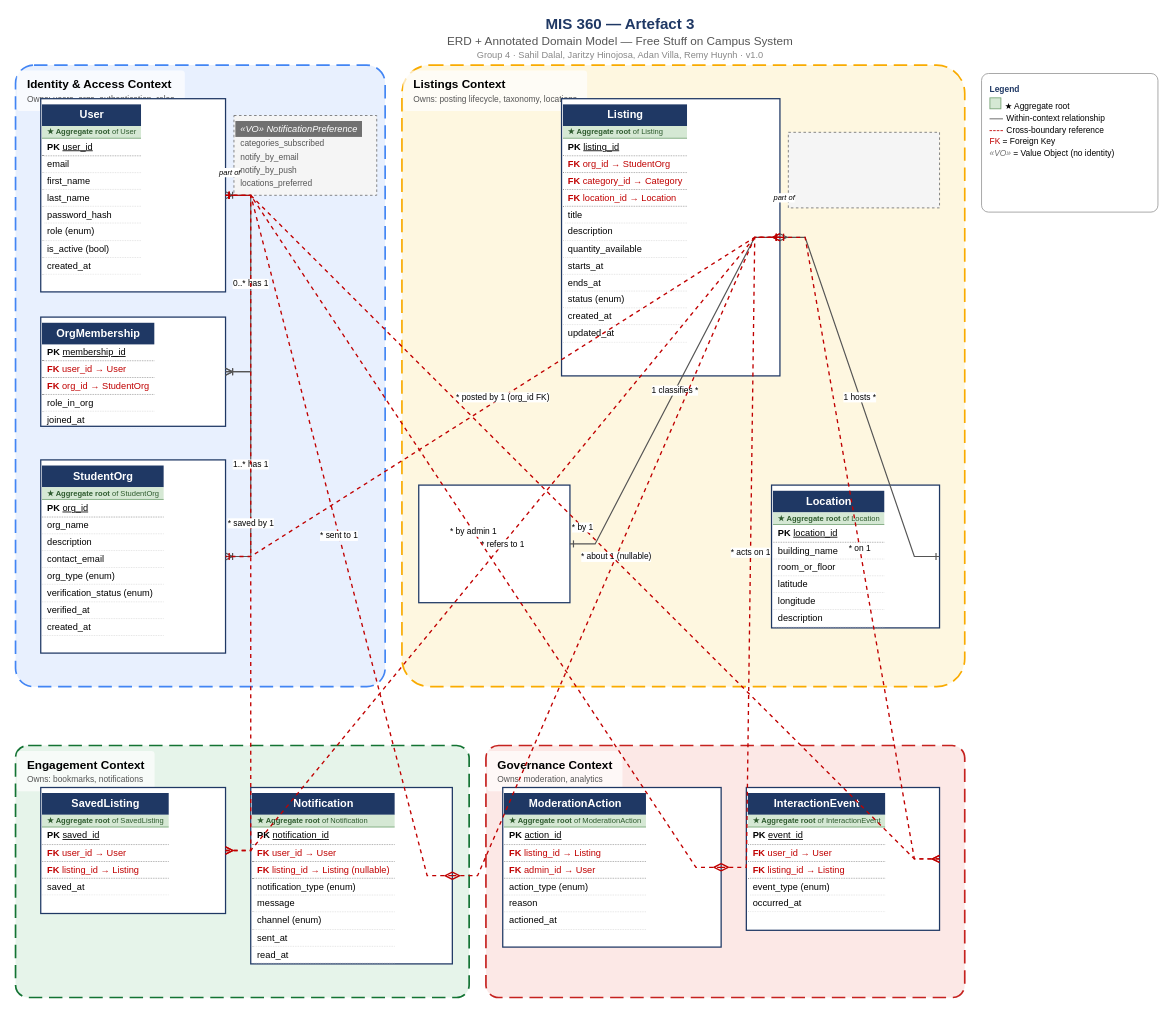
The diagram is 1173 pixels wide and 1012 high, and some of its shapes have lost their labels. Each missing label, with the centre of its shape:
Category ★ Aggregate root of Category PK category_id name description icon_url: the point at 494,543
«VO» ListingImage image_url caption display_order: the point at 864,169
